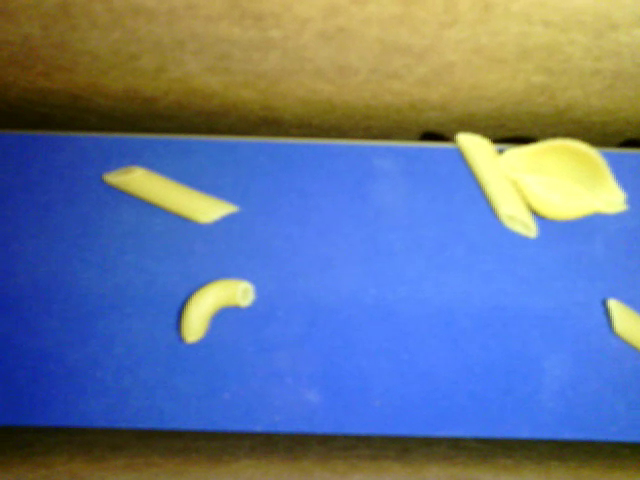elbow: (178, 278, 255, 342)
penne: (455, 131, 538, 238), (102, 166, 240, 225), (605, 296, 639, 351)
shell: (497, 134, 629, 220)
